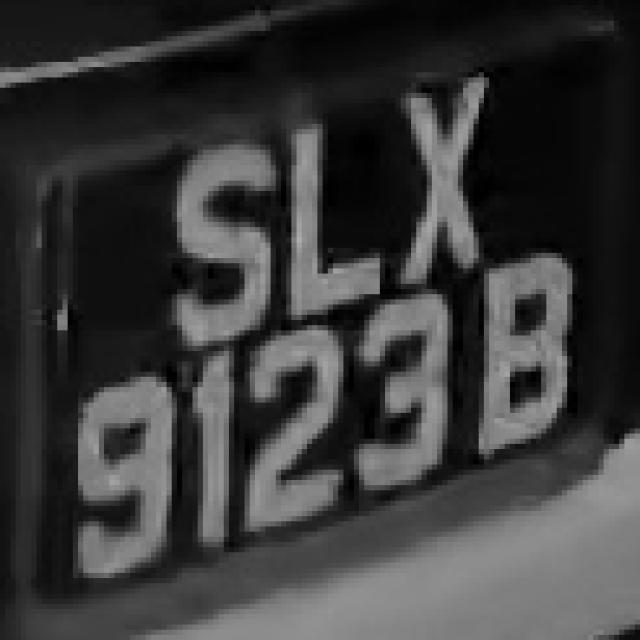1: (192, 335, 240, 573)
2: (250, 325, 343, 542)
3: (338, 294, 442, 511)
9: (63, 372, 182, 588)
B: (458, 248, 572, 516)
L: (281, 103, 385, 336)
S: (162, 124, 266, 366)
X: (385, 67, 494, 279)
